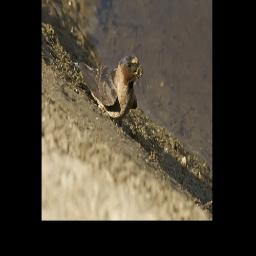Swallow: (77, 53, 142, 123)
